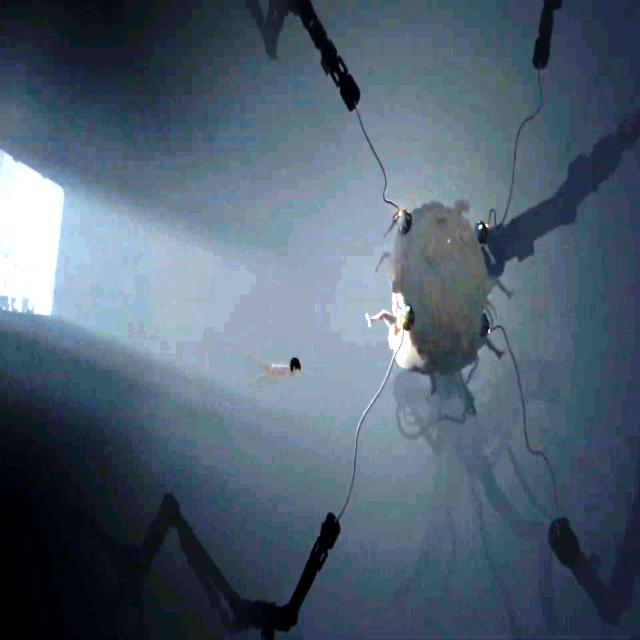blob: (367, 202, 492, 380)
boy: (258, 356, 302, 380)
human: (0, 252, 10, 310), (9, 258, 18, 308), (21, 260, 29, 312), (30, 266, 38, 310)
interactible: (398, 300, 414, 330), (396, 209, 412, 235), (476, 220, 489, 244), (481, 310, 491, 339)
mechanism: (124, 499, 342, 640), (476, 106, 638, 280), (253, 0, 359, 115), (549, 518, 640, 640), (532, 0, 563, 72)
